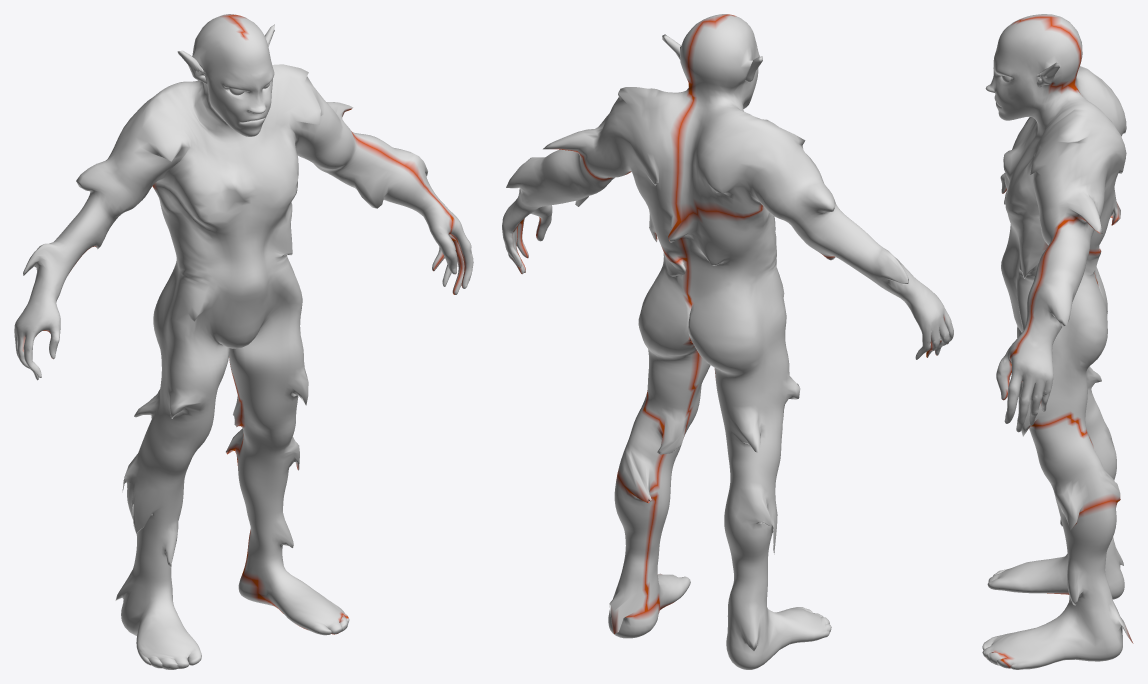
Rendered from Sk_Substance_mesh.fbx.
The picture shows the model from 3 angles, left to right: view 1: azimuth 30°, elevation 25°; view 2: azimuth 150°, elevation 25°; view 3: azimuth 270°, elevation 25°; orthographic projection.
Parts seen in each view (by area): view 1: Group16048; view 2: Group16048; view 3: Group16048.
Part boxes in pixels (x1,y1,x2,y2): Group16048: (14,14,473,669); Group16048: (502,14,953,669); Group16048: (982,14,1133,669).
Bounding box in the file's own units: 225 × 296 × 66.47.
